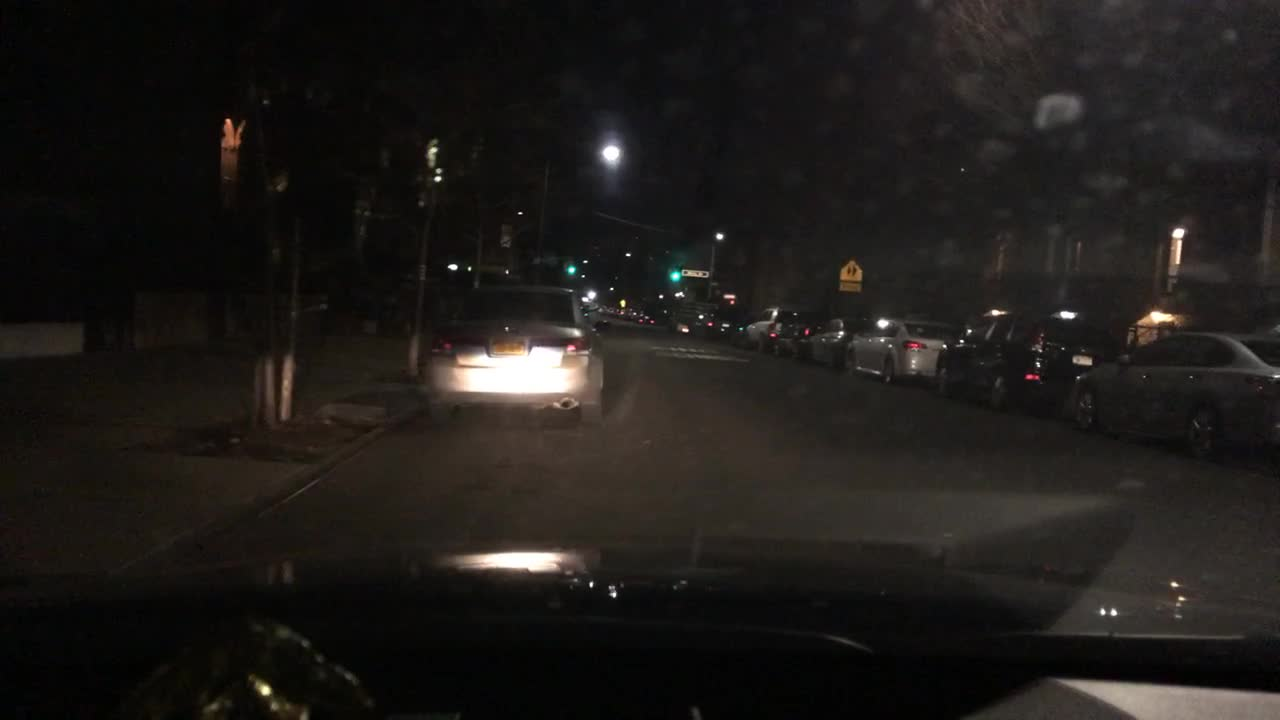car: (1063, 327, 1280, 462), (418, 282, 609, 428), (929, 308, 1120, 415), (843, 317, 962, 388), (745, 309, 820, 357), (789, 317, 860, 366), (688, 308, 754, 340), (573, 286, 607, 334), (660, 304, 691, 333), (635, 311, 656, 326)
person: (665, 310, 679, 335)
traffic light: (561, 259, 579, 277), (665, 267, 682, 284)
traffic sign: (839, 257, 865, 294), (499, 220, 513, 248), (681, 267, 711, 279)
